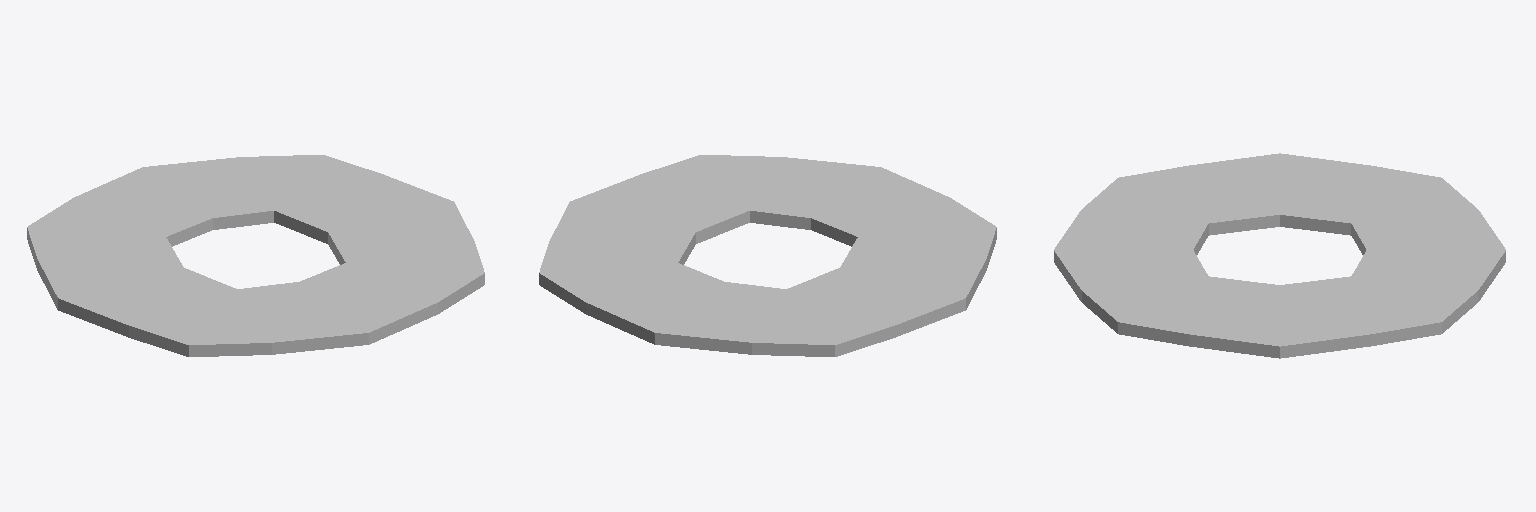
File: koroshiamu_base.obj
3 views of the same model, side by side, from view 1: azimuth 30°, elevation 25°; view 2: azimuth 150°, elevation 25°; view 3: azimuth 270°, elevation 25° (orthographic).
Visible parts, largest first — view 1: Cube.003_Cube.004; view 2: Cube.003_Cube.004; view 3: Cube.003_Cube.004.
Boxes of the visible parts, box(x1,y1,x2,y2) form: Cube.003_Cube.004: box(27, 155, 484, 356); Cube.003_Cube.004: box(539, 155, 996, 356); Cube.003_Cube.004: box(1054, 153, 1505, 358).
Size of the model in its own units: 4.08 by 0.119 by 4.04.